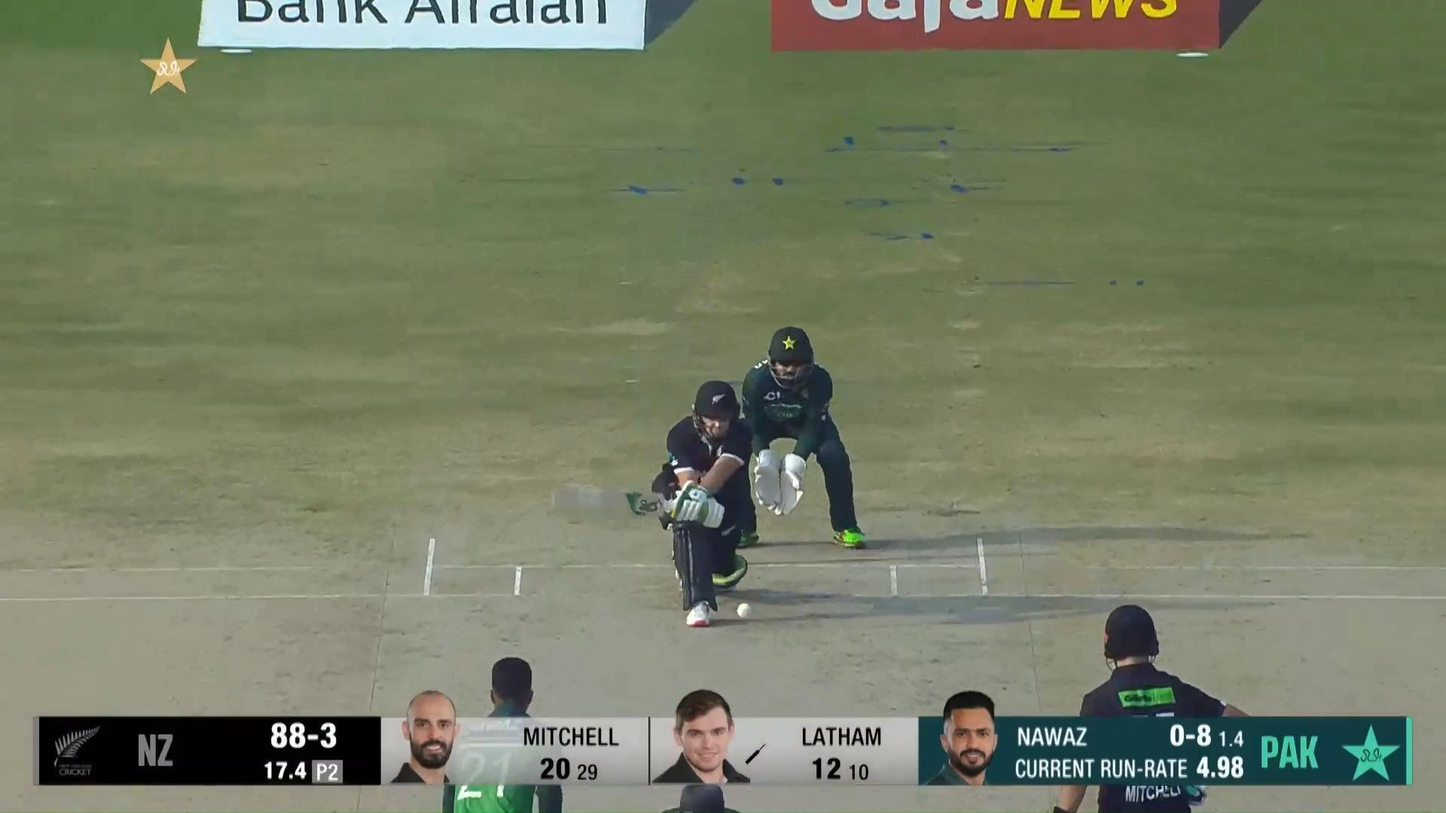BM 1: (552, 380, 753, 627)
BO: (438, 657, 566, 813)
